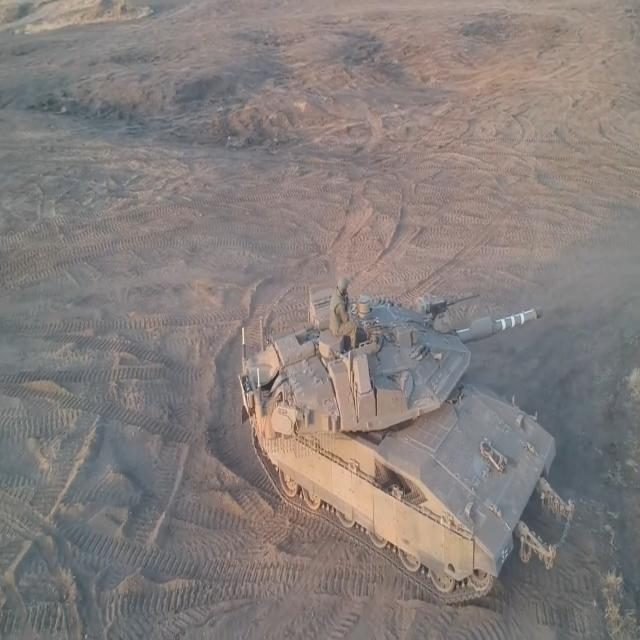tank: (240, 241, 574, 603)
